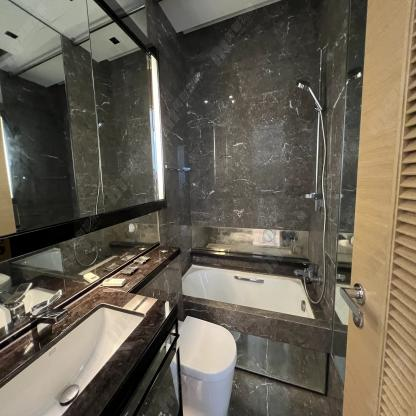Bathtub: (182, 261, 332, 397)
Faucet: (27, 310, 72, 341)
Toilet: (178, 315, 238, 416)
Toilet Sink: (0, 285, 179, 416)
